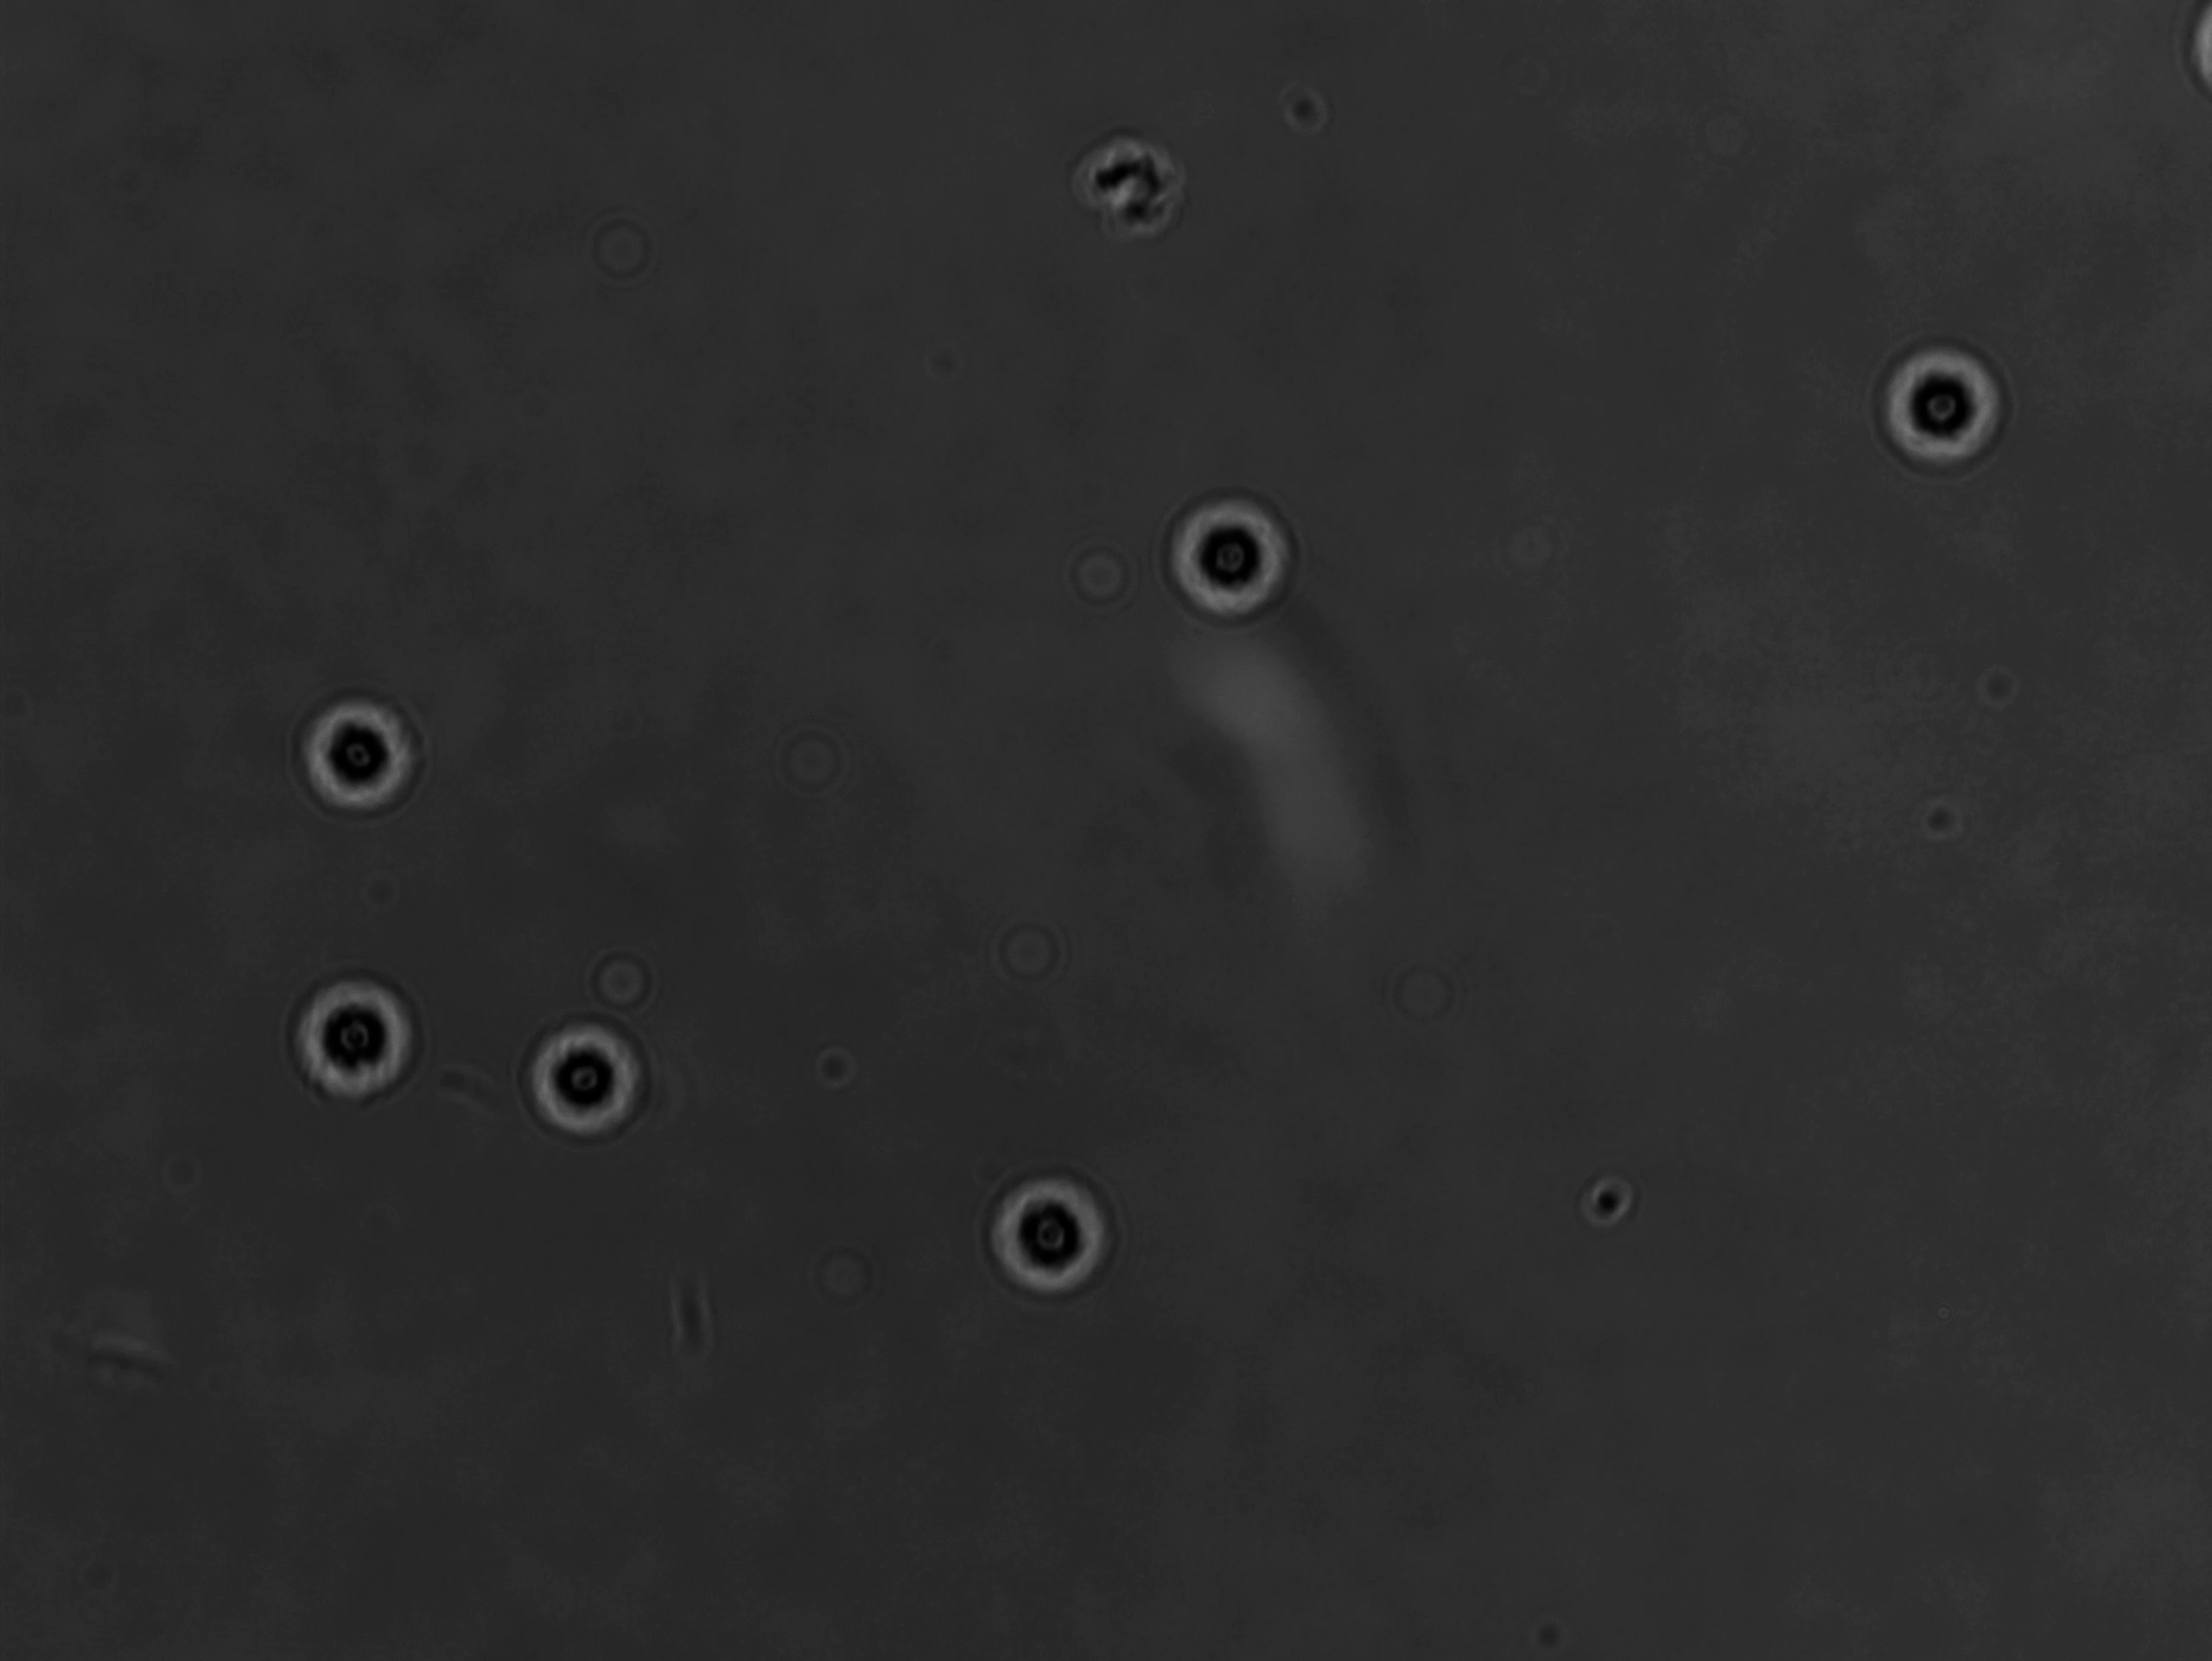depth:-20: (963, 1139, 1148, 1324), (270, 946, 454, 1122), (1856, 323, 2038, 483), (1155, 471, 1319, 637), (502, 1003, 663, 1150), (283, 679, 440, 827)
